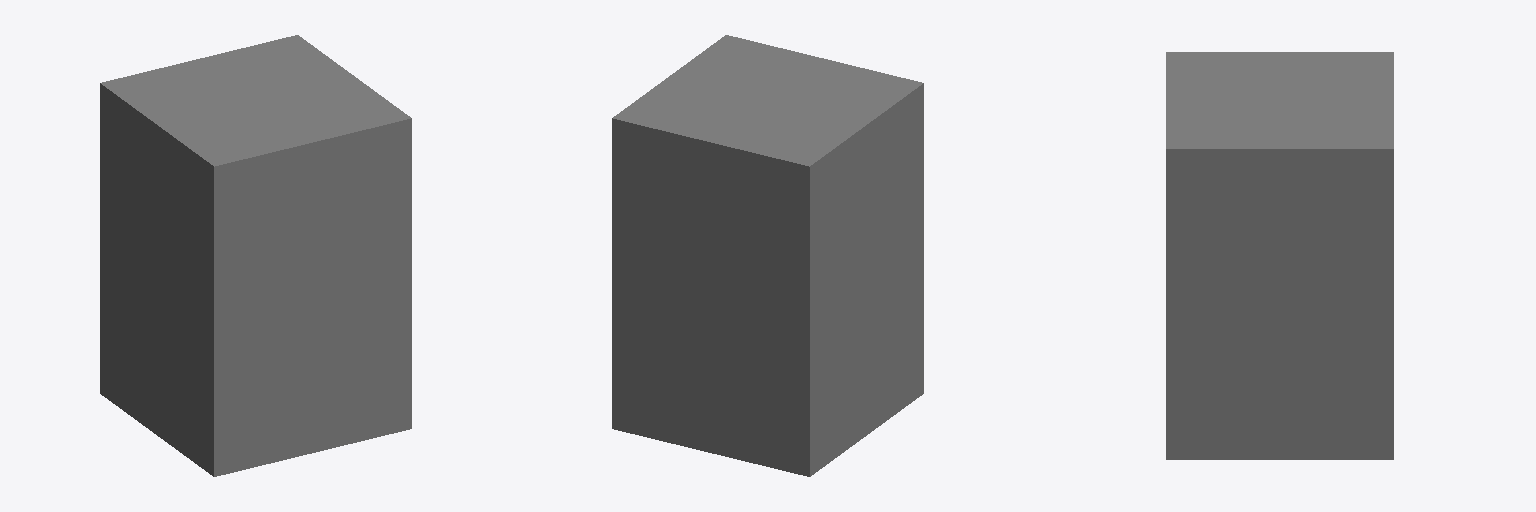
The picture shows the model from 3 angles: view 1: azimuth 30°, elevation 25°; view 2: azimuth 150°, elevation 25°; view 3: azimuth 270°, elevation 25°; orthographic projection.
Parts seen in each view (by area): view 1: object 1; view 2: object 1; view 3: object 1.
Boxes of the visible parts, x1,y1,x2,y2 form: object 1: [100, 35, 411, 476]; object 1: [612, 35, 923, 476]; object 1: [1166, 52, 1393, 459].
Size of the model in its own units: 0.2 by 0.3 by 0.2.
1 materials, 1 textured.